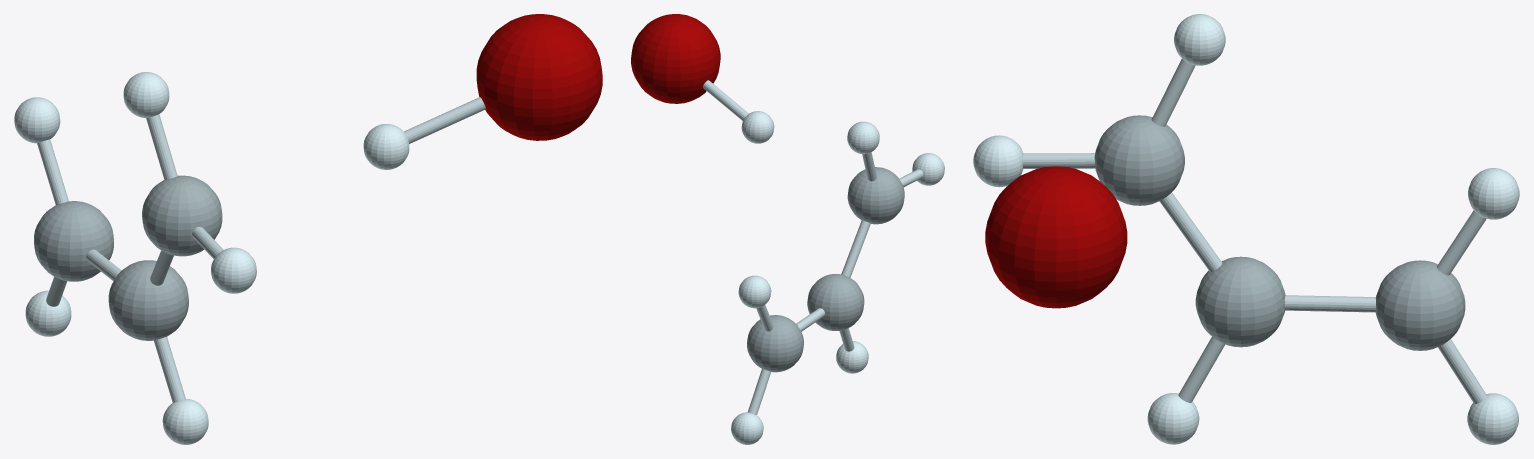
The model's file is irc_step_030.glb.
The picture shows the model from 3 angles, left to right: view 1: azimuth 30°, elevation 25°; view 2: azimuth 150°, elevation 25°; view 3: azimuth 270°, elevation 25°; orthographic projection. The views are drawn at different scales.
Parts seen in each view (by area): view 1: Renderer Node; view 2: Renderer Node; view 3: Renderer Node.
Part boxes in pixels (left/top/right/bottom): Renderer Node: left=14, top=14, right=602, bottom=444; Renderer Node: left=631, top=14, right=944, bottom=444; Renderer Node: left=973, top=14, right=1519, bottom=444.
Size of the model in its own units: 4.09 by 3.7 by 4.22.
